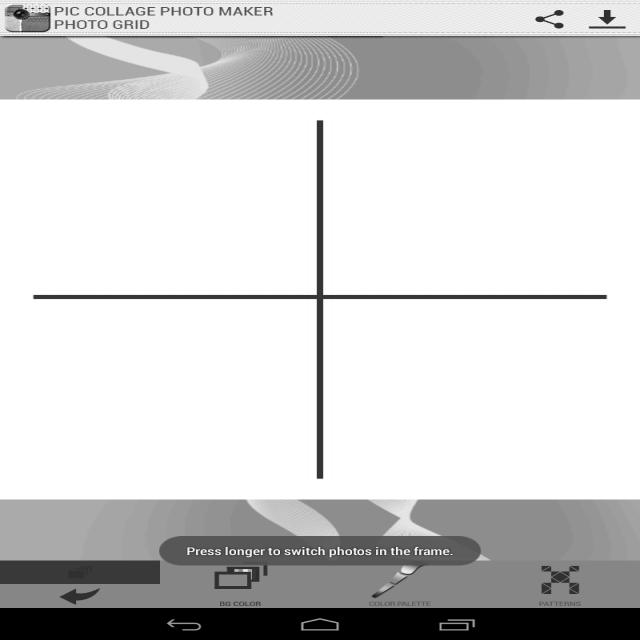ImageButton: (42, 565, 118, 607), (535, 563, 586, 596), (207, 566, 272, 588), (585, 4, 628, 32), (528, 4, 570, 32)
ImageView: (6, 4, 49, 32)
TextView: (54, 5, 278, 17), (55, 20, 151, 30)
